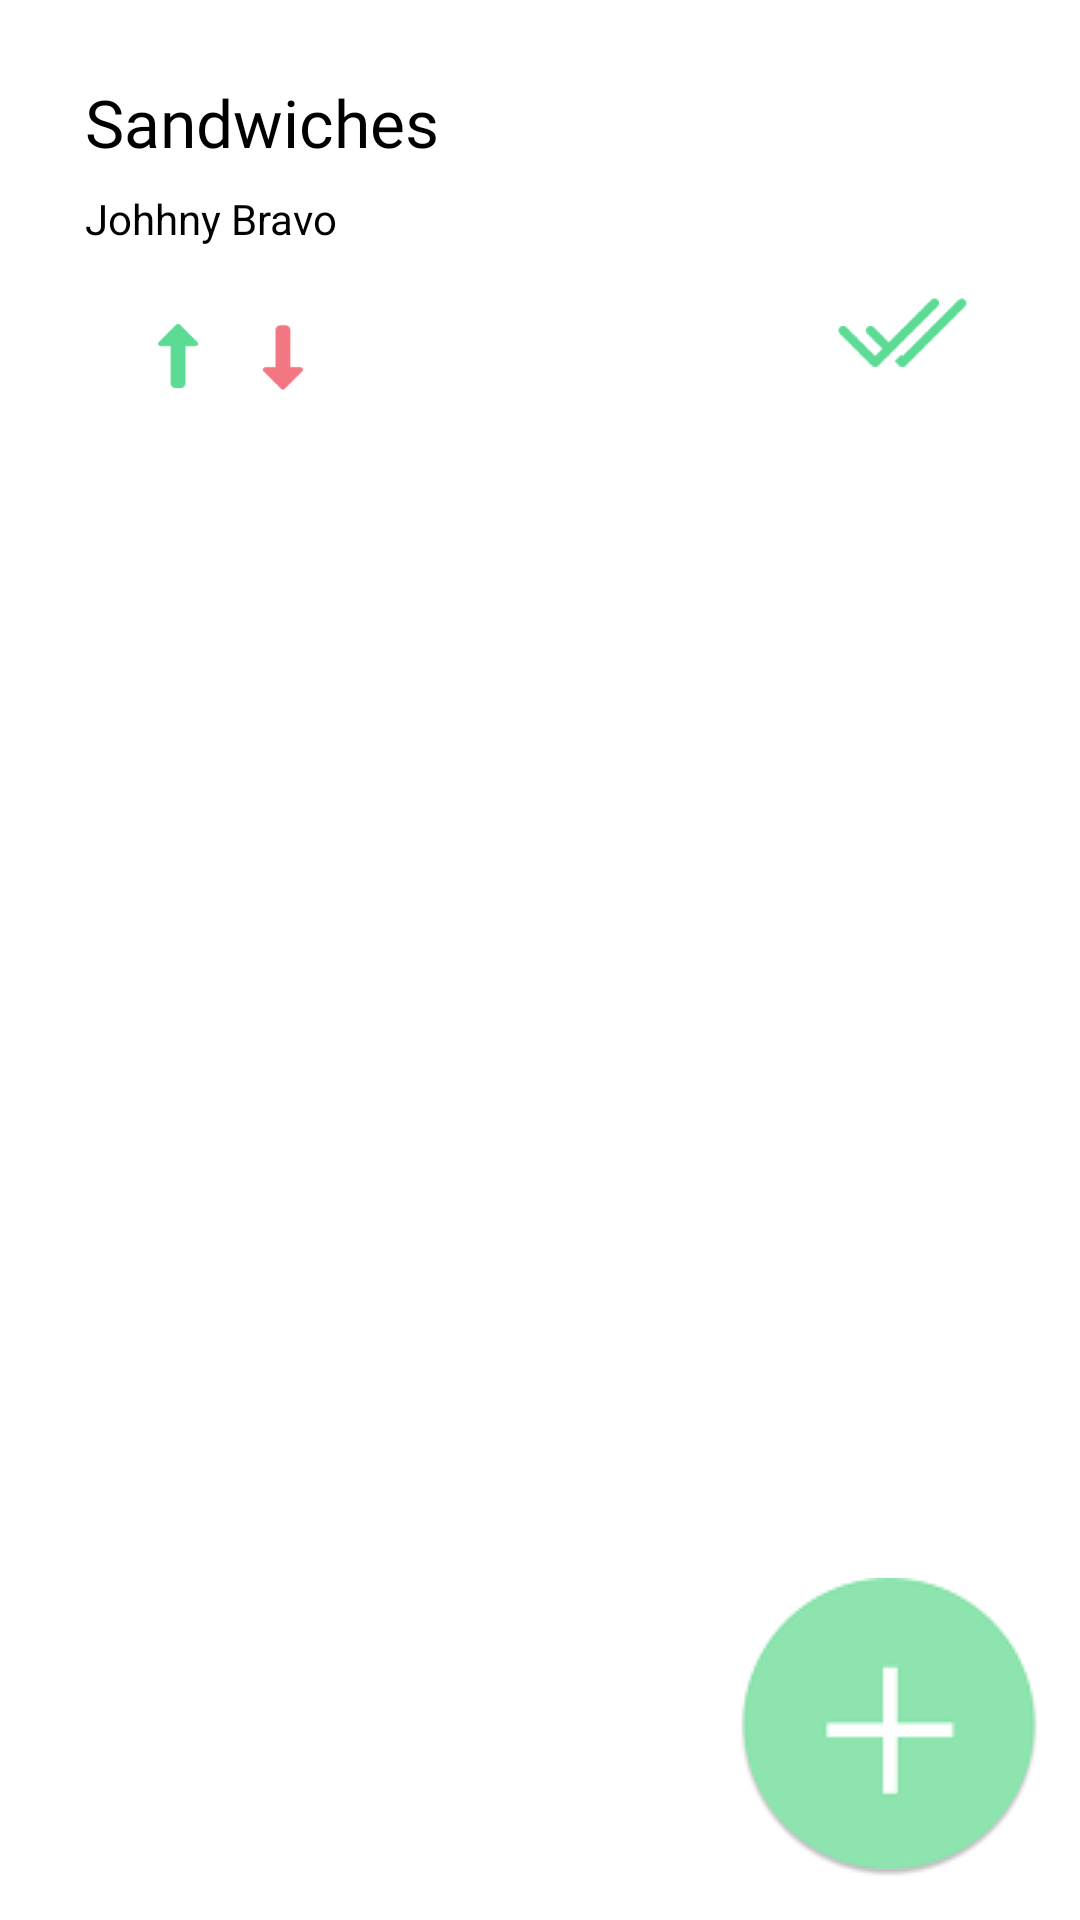

Point at icon controls on the screen. Image size 1080px x 1920px, points as [x,y].
addwish: [889,1726]
